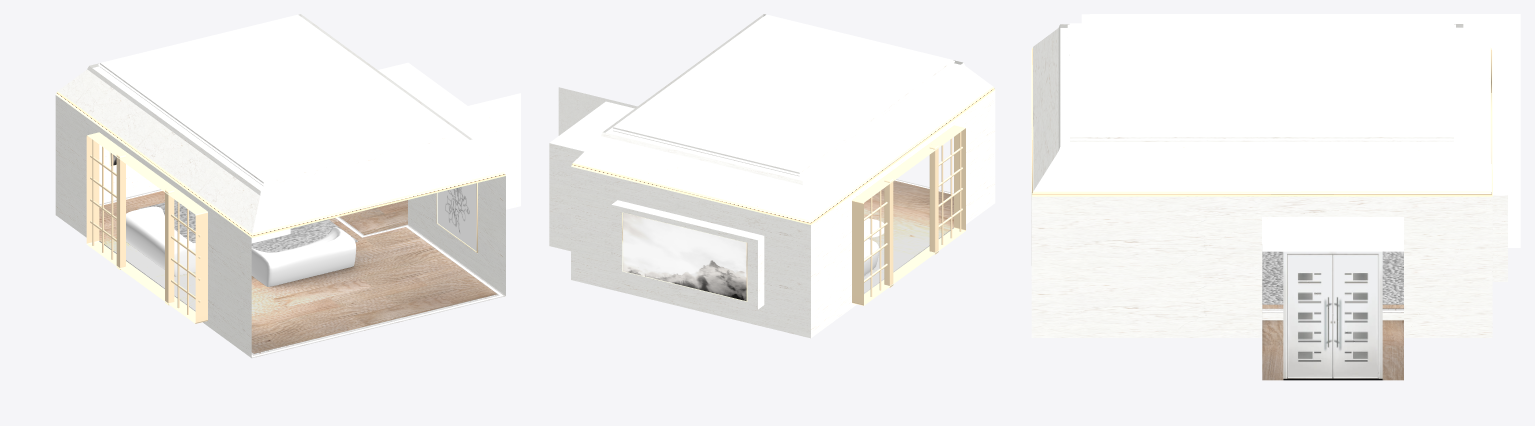
File: ModernLivingRoom.glb
3 views of the same model, side by side, from view 1: azimuth 30°, elevation 25°; view 2: azimuth 150°, elevation 25°; view 3: azimuth 270°, elevation 25° (orthographic). The views are drawn at different scales.
Visible parts, largest first — view 1: Modern Living Room, DoorBlocker; view 2: Modern Living Room, DoorBlocker; view 3: Modern Living Room, Modern Living Room_Door_0.
Part boxes in pixels (x1,y1,x2,y2): Modern Living Room: (55, 14, 505, 358); DoorBlocker: (437, 93, 520, 209); Modern Living Room: (549, 14, 995, 338); DoorBlocker: (558, 87, 637, 135); Modern Living Room: (1031, 14, 1520, 380); Modern Living Room_Door_0: (1283, 251, 1382, 378).
Size of the model in its own units: 10.99 by 5.81 by 10.
Materials: 18 (10 with a texture image).
